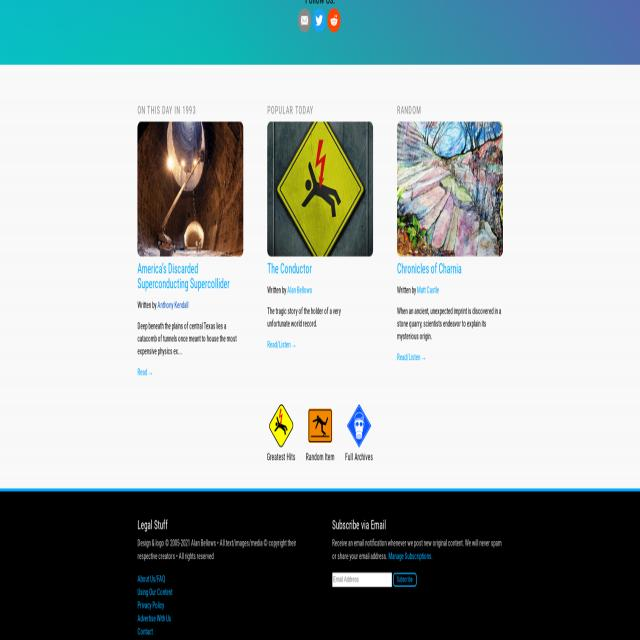button: (397, 122, 504, 258), (137, 120, 243, 257), (267, 121, 373, 257), (269, 404, 293, 448), (308, 404, 332, 448), (347, 404, 371, 448), (393, 572, 417, 587), (312, 9, 326, 33), (298, 8, 311, 32), (328, 8, 340, 33)
field: (332, 572, 392, 587)
